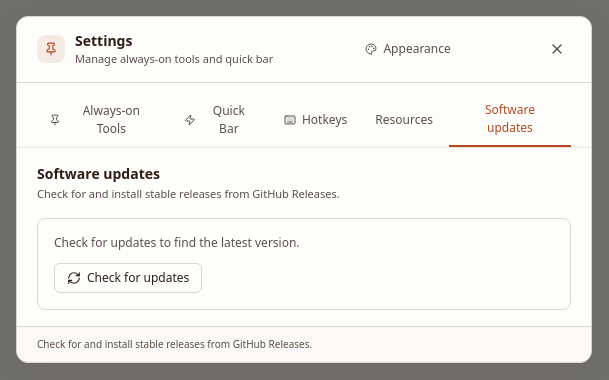
Test case: software update status › shows up to date only after a successful check returns no update
Step 1. Click the button "Check for updates" → (128, 278), box x1=54 y1=263 x2=202 y2=293
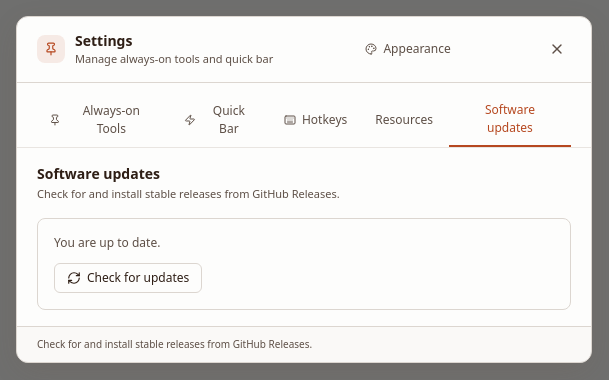
Check: the text "You are up to date." is shown, box x1=54 y1=234 x2=160 y2=251
